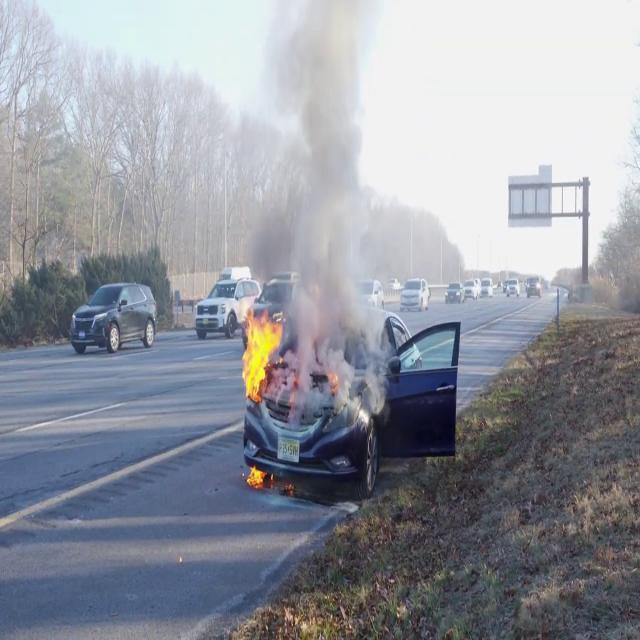Fire: (240, 298, 284, 400), (244, 458, 268, 490)
Smoke: (266, 0, 392, 417)
